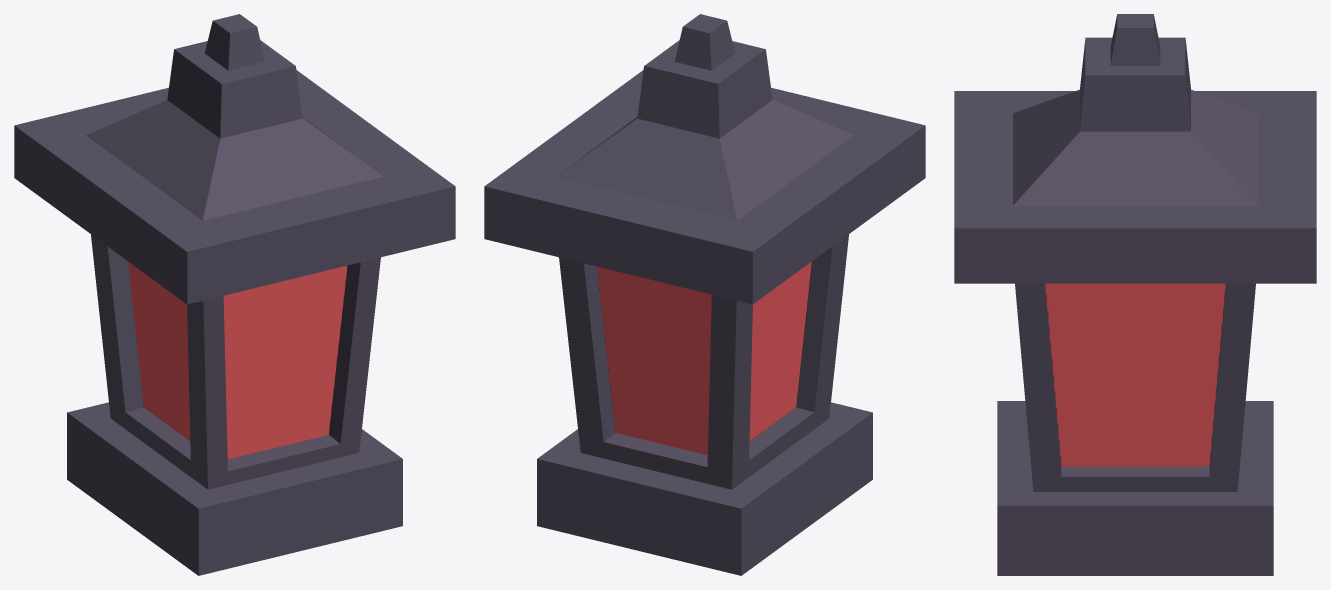
The model's file is LanternStand.glb.
3 renders of one model, left to right at view 1: azimuth 30°, elevation 25°; view 2: azimuth 150°, elevation 25°; view 3: azimuth 270°, elevation 25°, orthographic. The views are drawn at different scales.
Parts seen in each view (by area): view 1: Cube; view 2: Cube; view 3: Cube.
Boxes of the visible parts, bbox=[...] form: Cube: bbox=[14, 14, 455, 575]; Cube: bbox=[484, 14, 925, 575]; Cube: bbox=[954, 14, 1316, 575].
Size of the model in its own units: 0.1071 by 0.1827 by 0.1194.
Materials: 2 (2 with a texture image).
